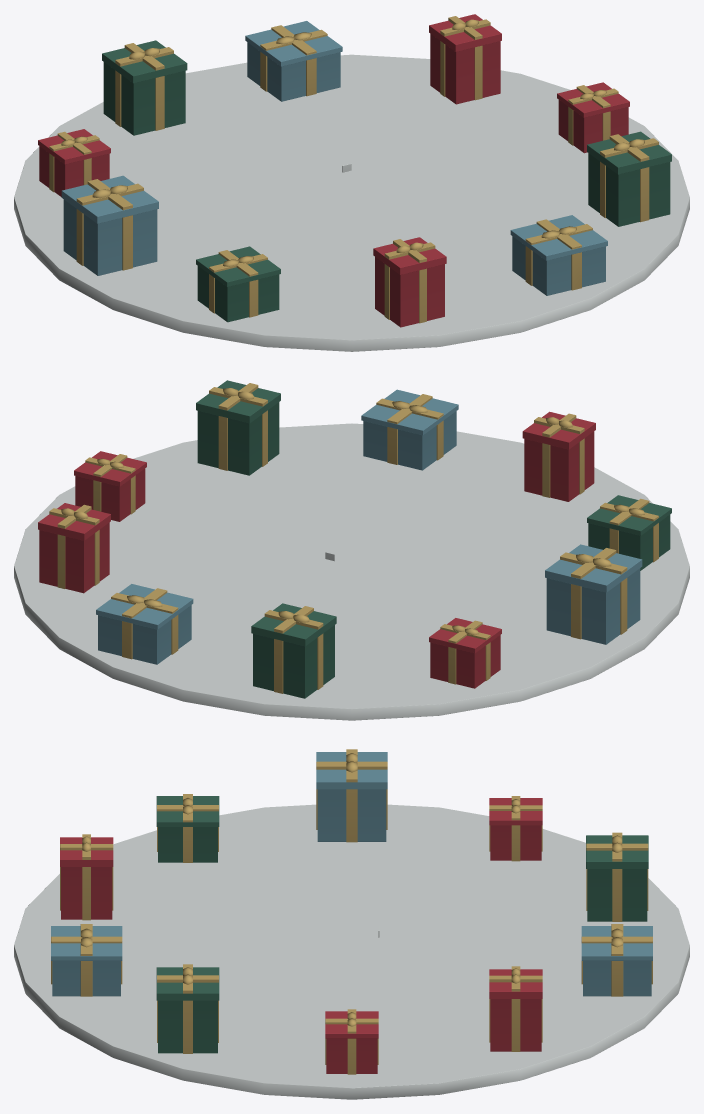
The model's file is landmark_winter_base_low.glb.
3 renders of one model, top to bottom at view 1: azimuth 30°, elevation 25°; view 2: azimuth 150°, elevation 25°; view 3: azimuth 270°, elevation 25°, orthographic.
Bounding box in the file's own units: 6.3 × 0.8268 × 6.3.
